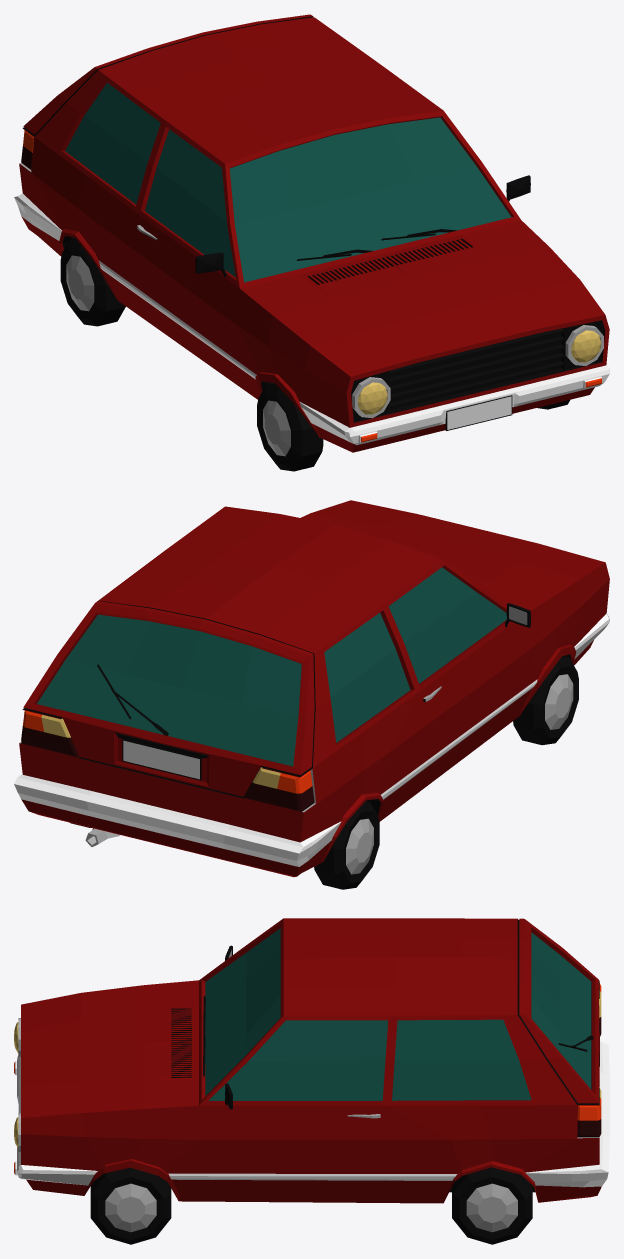
File: CityCar_03.FBX
3 renders of one model, top to bottom at view 1: azimuth 30°, elevation 25°; view 2: azimuth 150°, elevation 25°; view 3: azimuth 270°, elevation 25°, orthographic. The views are drawn at different scales.
Parts seen in each view (by area): view 1: CityCar_03, wheel_f_l, wheel_b_r, headLights, licensePlate_f, lights; view 2: CityCar_03, wheel_f_l, wheel_b_r, tailLights, licensePlate_b, backupLights, indicatorLights_r; view 3: CityCar_03, wheel_f_r, wheel_b_l, tailLights.
Boxes of the visible parts, x1,y1,x2,y2 form: CityCar_03: (14, 14, 609, 452); wheel_f_l: (257, 382, 323, 471); wheel_b_r: (60, 237, 125, 326); headLights: (358, 330, 600, 414); licensePlate_f: (445, 395, 512, 430); lights: (352, 325, 603, 442); CityCar_03: (14, 500, 609, 877); wheel_f_l: (513, 656, 578, 745); wheel_b_r: (314, 801, 379, 889); tailLights: (21, 726, 314, 811); licensePlate_b: (122, 739, 201, 780); backupLights: (41, 715, 280, 788); indicatorLights_r: (277, 770, 312, 793); CityCar_03: (17, 918, 609, 1203); wheel_f_r: (90, 1167, 171, 1244); wheel_b_l: (452, 1167, 532, 1244); tailLights: (577, 1017, 601, 1137).
Bounding box in the file's own units: 25.91 × 18.35 × 43.74.
